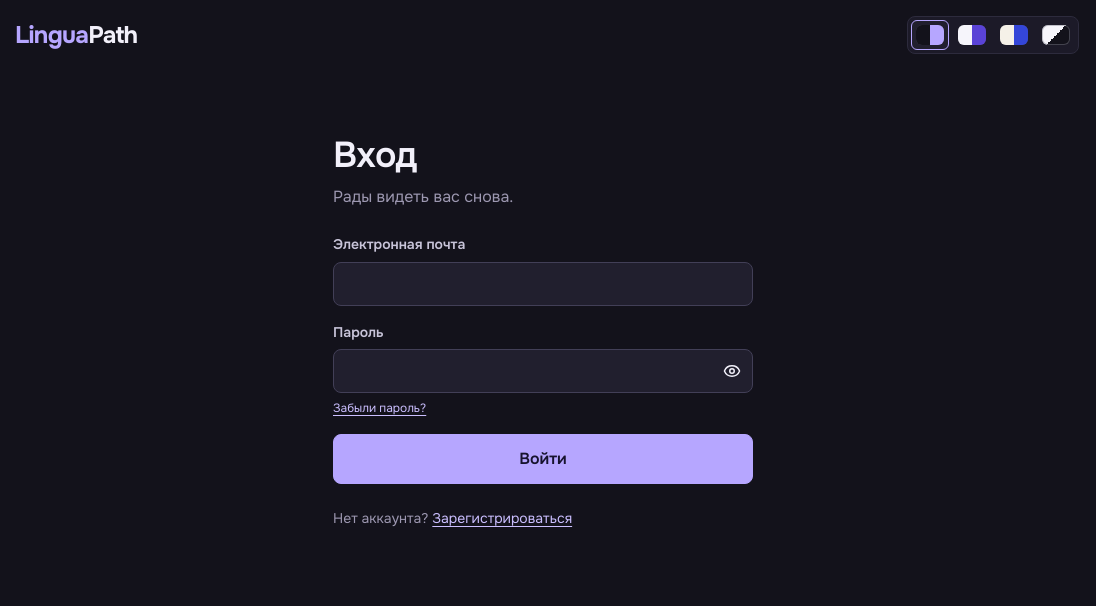
Scenario: login page › shows a Russian error message for wrong credentials
In the field labelled "Электронная почта": (543, 284) [333,262,753,306], type "a@b.kz"
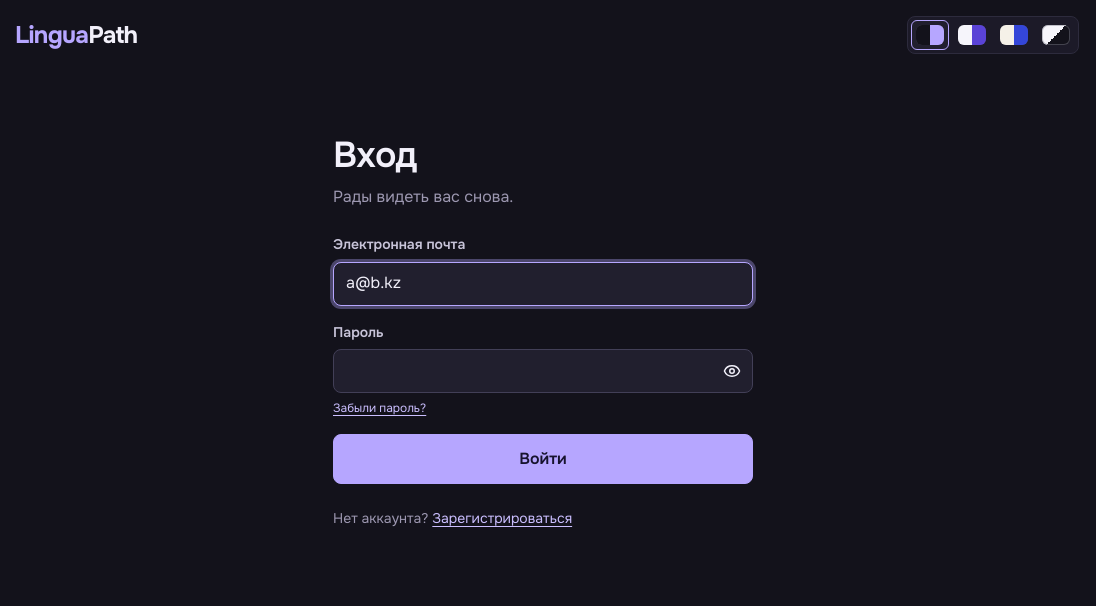
In the password field labelled "Пароль": (543, 371) [333,349,753,393], type "wrong1234"
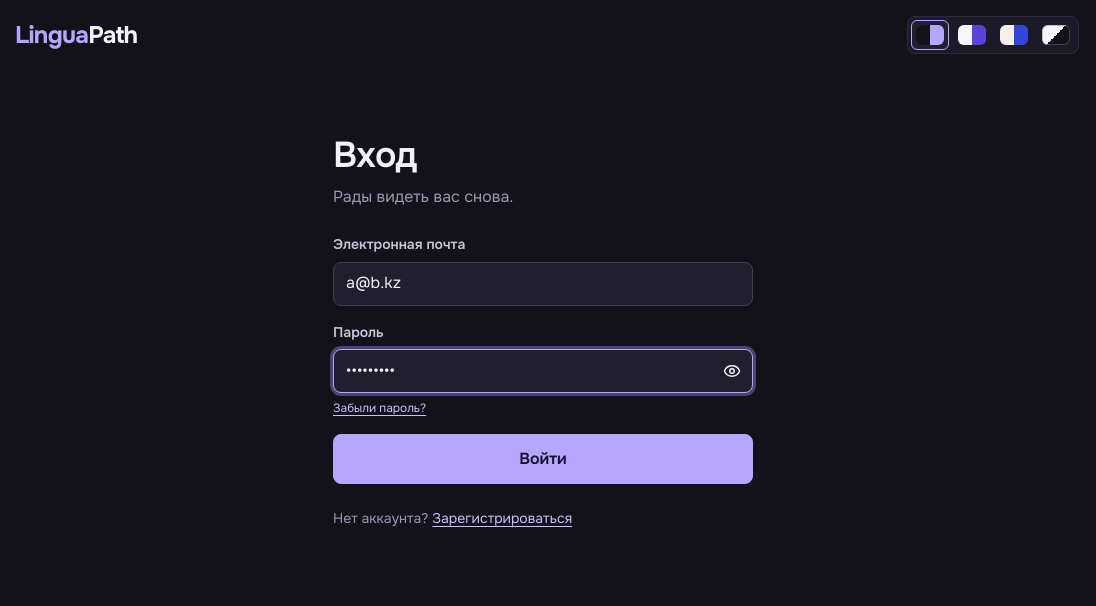
Click the button "Войти": (543, 459) [333,434,753,484]
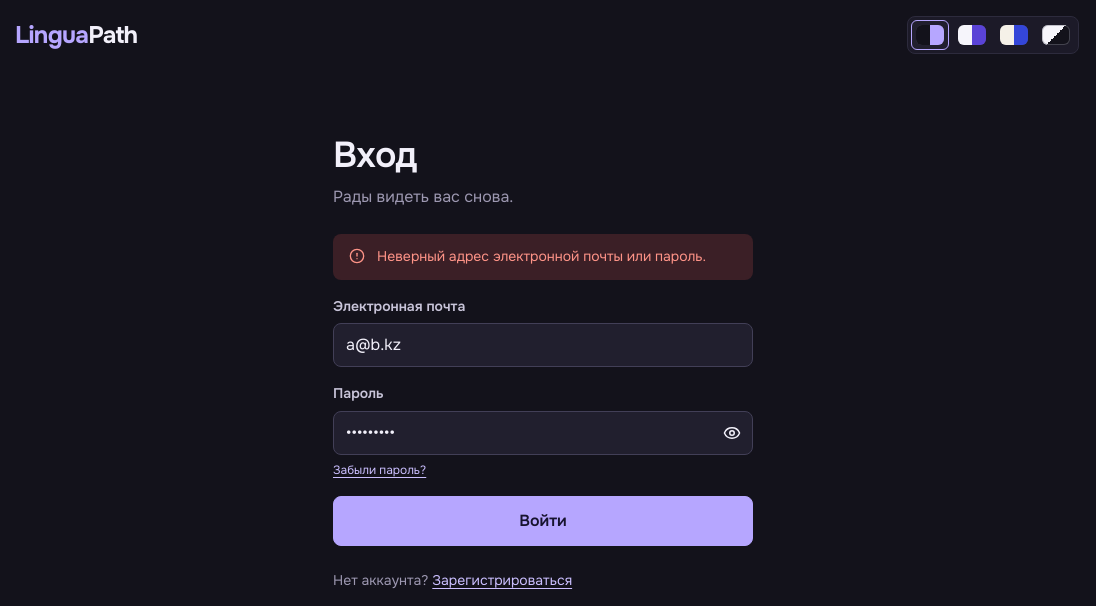
Check: the text "Неверный адрес электронной почты или пароль." is shown, box [377,246,706,268]
